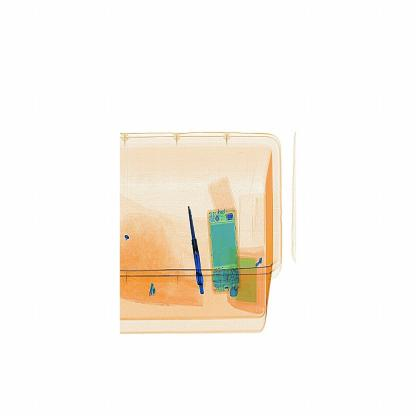gun: (175, 200, 212, 310)
